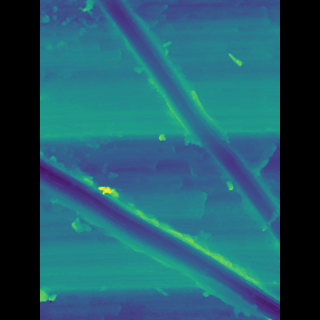Loch: (111, 0, 250, 254), (69, 152, 251, 319)
